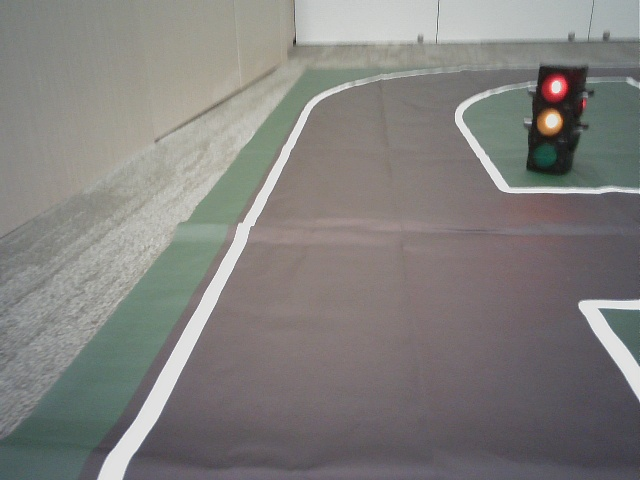red: (533, 68, 566, 167)
